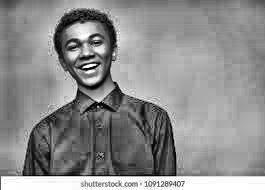happy: (42, 16, 137, 102)
